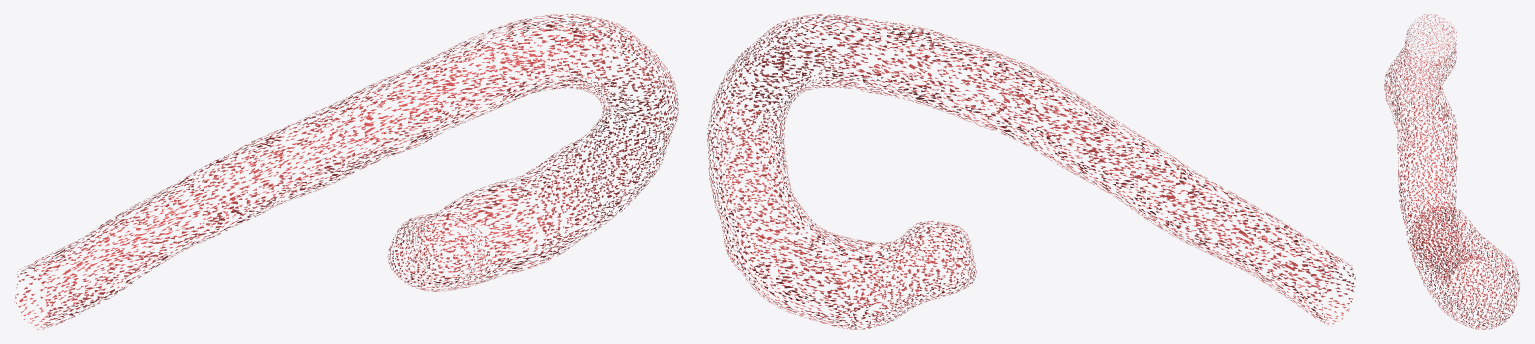
The model's file is aorta.glb.
The picture shows the model from 3 angles, left to right: view 1: azimuth 30°, elevation 25°; view 2: azimuth 150°, elevation 25°; view 3: azimuth 270°, elevation 25°; orthographic projection. The views are drawn at different scales.
Size of the model in its own units: 261 by 108 by 62.15.
